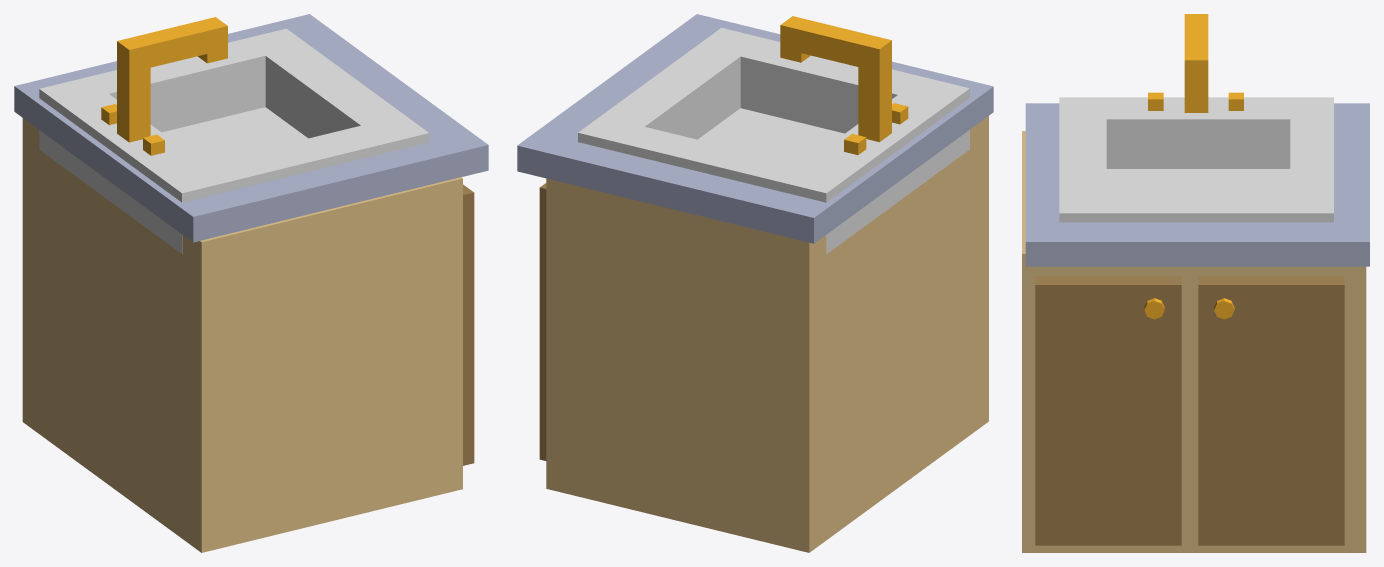
Rendered from KitchenSink.fbx.
The picture shows the model from 3 angles, left to right: view 1: azimuth 30°, elevation 25°; view 2: azimuth 150°, elevation 25°; view 3: azimuth 270°, elevation 25°; orthographic projection. The views are drawn at different scales.
Parts seen in each view (by area): view 1: Cube.002, Plane, Cube.003, Cube.011, Cube.004; view 2: Cube.002, Plane, Cube.003, Cube.011, Cube.010; view 3: Cube.004, Cube.010, Plane, Cube.003, Cube.002, Cube.011.
Part boxes in pixels (left/top/right/bottom): Cube.002: left=22, top=118, right=462, bottom=552; Plane: left=39, top=28, right=429, bottom=253; Cube.003: left=14, top=14, right=488, bottom=242; Cube.011: left=117, top=17, right=227, bottom=142; Cube.004: left=463, top=184, right=474, bottom=465; Cube.002: left=546, top=116, right=988, bottom=552; Plane: left=578, top=27, right=969, bottom=254; Cube.003: left=517, top=14, right=993, bottom=243; Cube.011: left=780, top=16, right=891, bottom=142; Cube.010: left=539, top=183, right=546, bottom=460; Cube.004: left=1035, top=276, right=1181, bottom=545; Cube.010: left=1198, top=276, right=1344, bottom=545; Plane: left=1059, top=97, right=1333, bottom=222; Cube.003: left=1025, top=103, right=1369, bottom=266; Cube.002: left=1022, top=131, right=1366, bottom=552; Cube.011: left=1184, top=14, right=1208, bottom=112.
Bounding box in the file's own units: 81.33 × 86.19 × 115.
